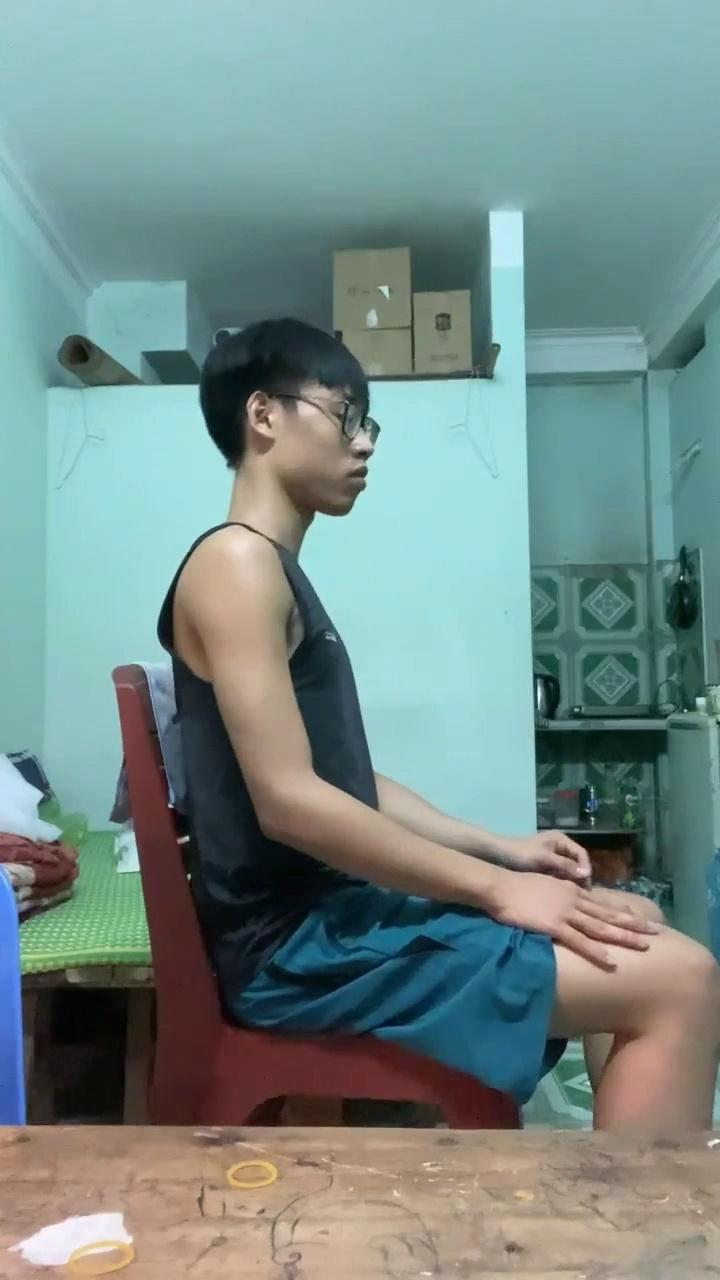GoodPosture: (118, 319, 719, 1135)
